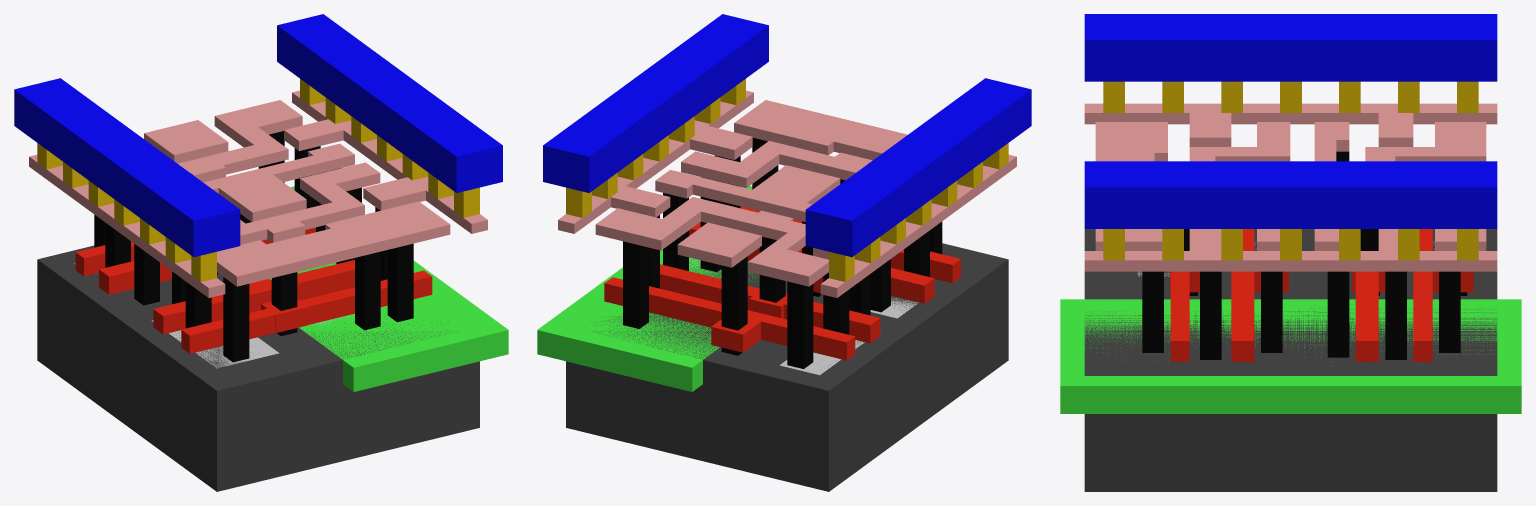
Rendered from sky130_fd_sc_hd__dlygate4sd2_1.obj.
3 views of the same model, side by side, from view 1: azimuth 30°, elevation 25°; view 2: azimuth 150°, elevation 25°; view 3: azimuth 270°, elevation 25° (orthographic). The views are drawn at different scales.
Parts seen in each view (by area): view 1: subs, li, metal1, nwell, licon, poly, mcon, diff; view 2: subs, li, metal1, licon, poly, nwell, mcon, diff; view 3: metal1, subs, li, nwell, licon, mcon, poly.
Boxes of the visible parts, x1,y1,x2,y2 form: subs: (37,245,479,491); li: (29,90,487,297); metal1: (14,14,502,257); nwell: (269,186,508,391); licon: (94,131,413,362); poly: (75,227,432,353); mcon: (37,79,479,281); diff: (74,263,279,368); subs: (566,243,1008,491); li: (558,90,1016,297); metal1: (543,14,1031,257); licon: (623,138,942,368); poly: (604,206,960,360); nwell: (537,186,758,391); mcon: (566,79,1008,281); diff: (779,297,918,375); metal1: (1084,14,1497,228); subs: (1084,229,1497,491); li: (1084,103,1497,271); nwell: (1060,299,1521,413); licon: (1142,151,1467,359); mcon: (1103,81,1478,260); poly: (1170,229,1473,361).
Bounding box in the file's own units: 3.2 × 2.74 × 3.6.
